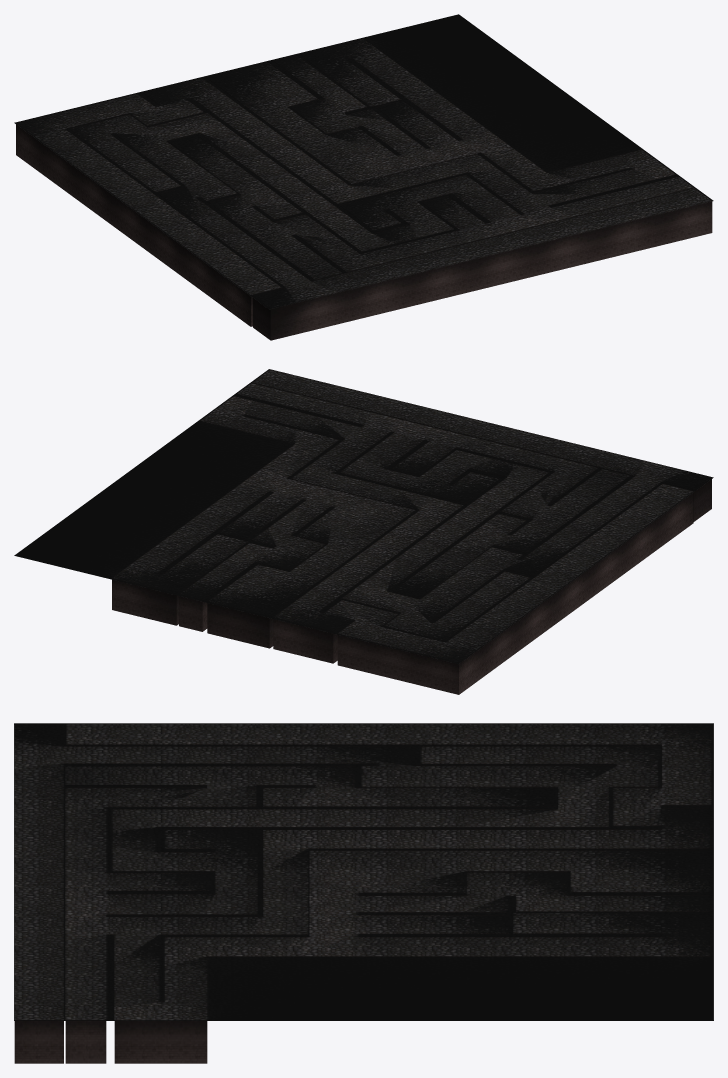
Rendered from level_01.obj.
3 views of the same model, one above another, from view 1: azimuth 30°, elevation 25°; view 2: azimuth 150°, elevation 25°; view 3: azimuth 270°, elevation 25° (orthographic). The views are drawn at different scales.
Visible parts, largest first — view 1: level_01_roof, level_01_walls; view 2: level_01_roof, level_01_walls; view 3: level_01_roof, level_01_walls.
Boxes of the visible parts, left/top/right/bottom form: level_01_roof: left=14, top=14, right=713, bottom=309; level_01_walls: left=16, top=38, right=712, bottom=340; level_01_roof: left=14, top=369, right=713, bottom=664; level_01_walls: left=112, top=369, right=711, bottom=694; level_01_roof: left=14, top=723, right=713, bottom=1020; level_01_walls: left=14, top=723, right=710, bottom=1063.
Bounding box in the file's own units: 50.55 × 3.47 × 50.21.
